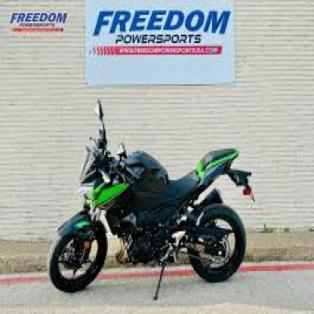Motocicleta: (45, 104, 254, 294)
